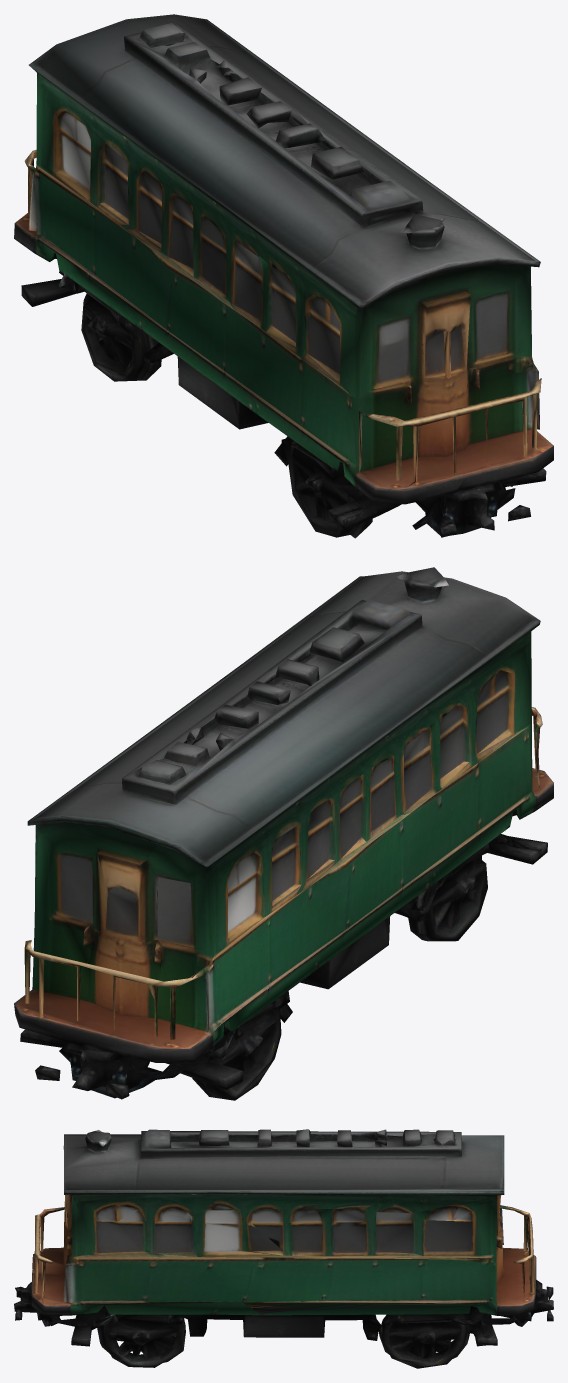
File: private_car.glb
3 views of the same model, one above another, from view 1: azimuth 30°, elevation 25°; view 2: azimuth 150°, elevation 25°; view 3: azimuth 270°, elevation 25° (orthographic). The views are drawn at different scales.
Visible parts, largest first — view 1: geometry_0; view 2: geometry_0; view 3: geometry_0.
Part boxes in pixels (left/top/right/bottom): geometry_0: left=14, top=14, right=553, bottom=538; geometry_0: left=14, top=567, right=553, bottom=1100; geometry_0: left=14, top=1129, right=553, bottom=1368.
Bounding box in the file's own units: 3.29 × 4.79 × 11.
1 material, 1 textured.
